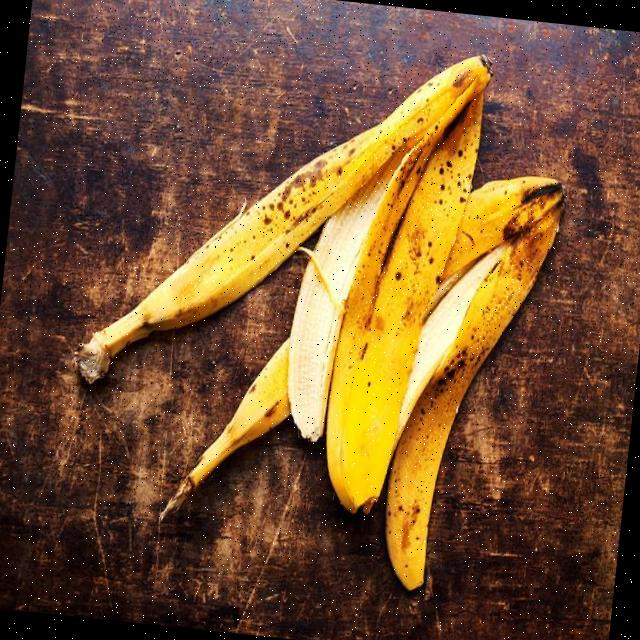banana-peel: (52, 12, 580, 602), (374, 160, 568, 602)
